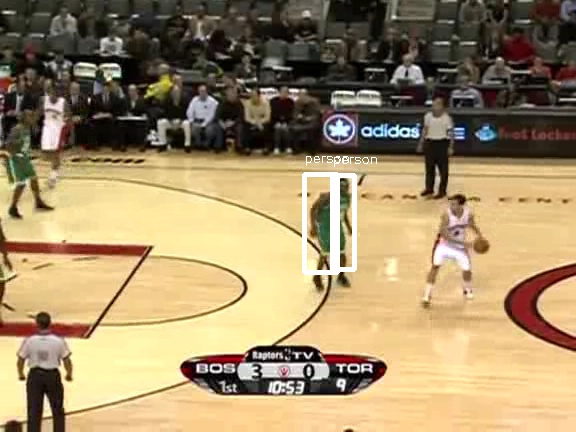person: (319, 185, 353, 266), (318, 185, 352, 266), (320, 185, 354, 266), (319, 184, 353, 265), (319, 186, 353, 267)
target_negative: (327, 176, 574, 385), (228, 18, 457, 187), (300, 175, 571, 311), (158, 204, 462, 305), (511, 42, 563, 422), (158, 405, 500, 422)
